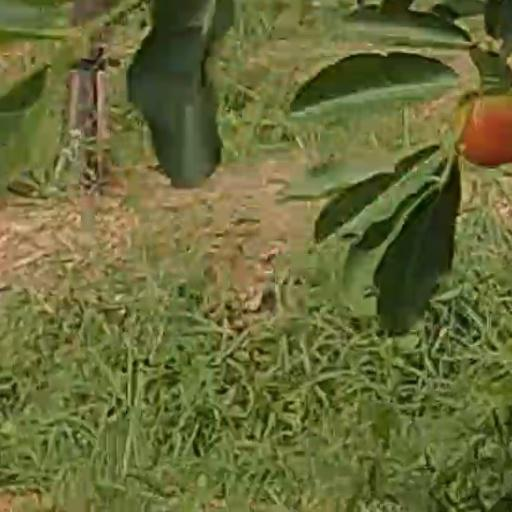acerola_vermelha: (459, 96, 511, 168)
